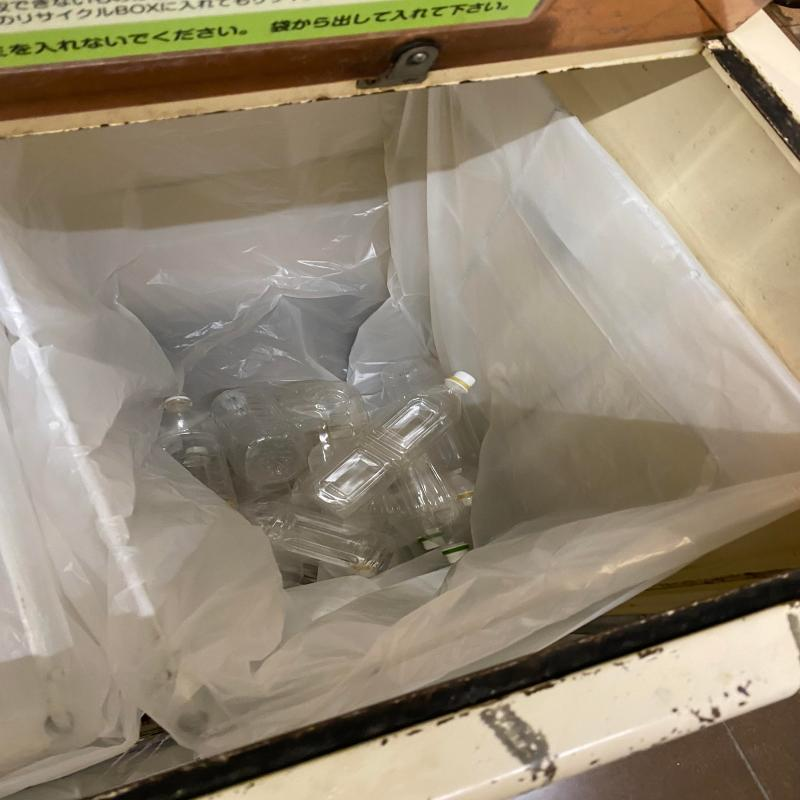plastic bottle: (298, 370, 476, 522), (238, 502, 394, 580), (381, 445, 469, 564), (278, 380, 370, 484), (156, 395, 238, 511), (210, 387, 307, 483)
